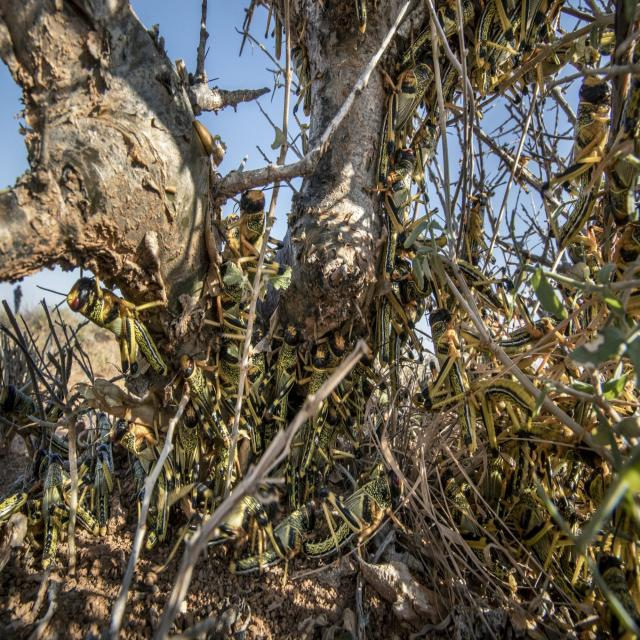ZhaMeng: (61, 263, 171, 386), (552, 60, 615, 257), (422, 298, 481, 454), (178, 343, 234, 459), (232, 188, 284, 280), (36, 458, 74, 582), (386, 139, 419, 281)
